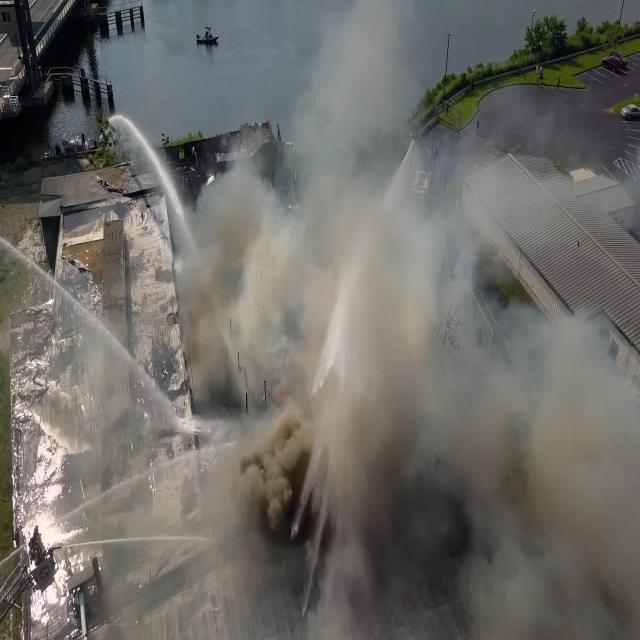Smoke: (222, 133, 603, 606)
